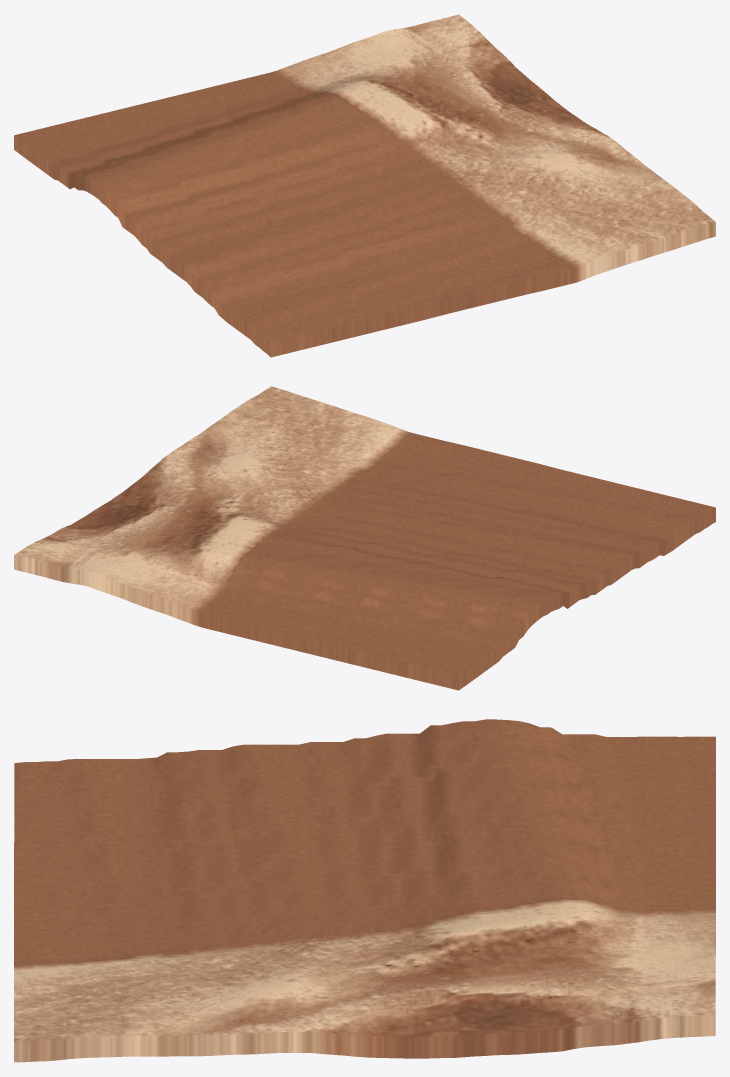
3 renders of one model, top to bottom at view 1: azimuth 30°, elevation 25°; view 2: azimuth 150°, elevation 25°; view 3: azimuth 270°, elevation 25°, orthographic. The views are drawn at different scales.
Visible parts, largest first — view 1: L6_19_22; view 2: L6_19_22; view 3: L6_19_22.
Boxes of the visible parts, x1,y1,x2,y2 form: L6_19_22: [14, 14, 715, 357]; L6_19_22: [14, 386, 715, 690]; L6_19_22: [14, 719, 715, 1062].
Bounding box in the file's own units: 225 × 23.69 × 225.
1 material, 1 textured.
